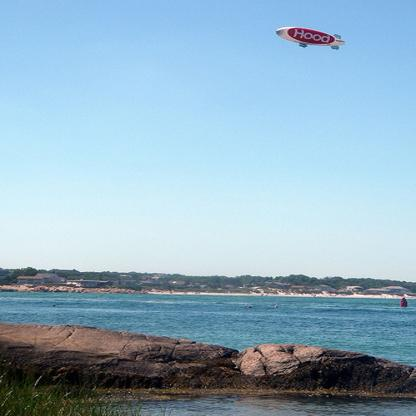Airship: (272, 23, 346, 61)
